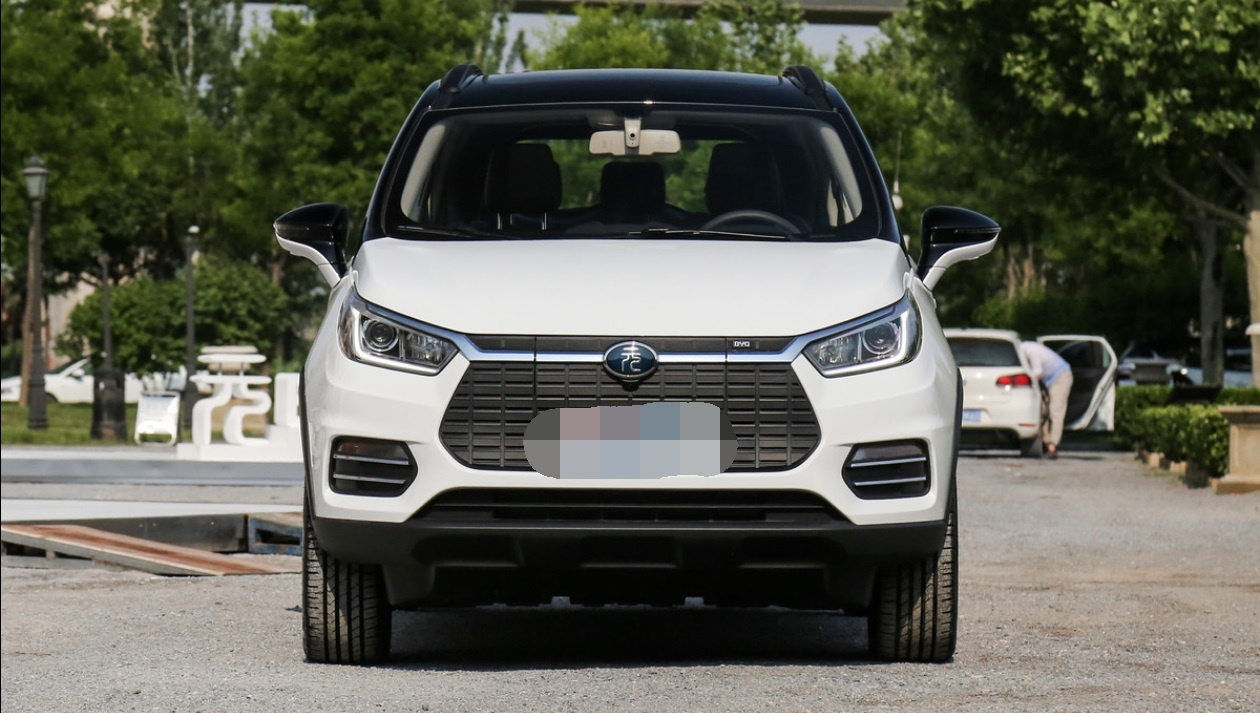SUV: (286, 50, 960, 656)
